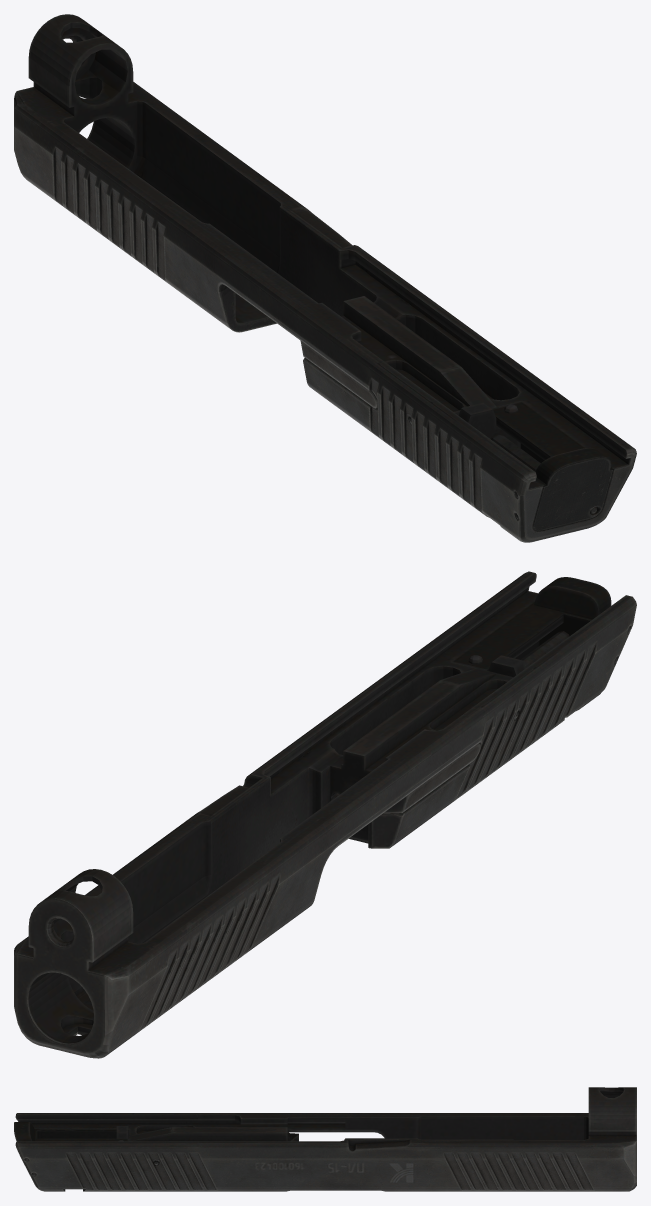
The picture shows the model from 3 angles, top to bottom: view 1: azimuth 30°, elevation 25°; view 2: azimuth 150°, elevation 25°; view 3: azimuth 270°, elevation 25°; orthographic projection. The views are drawn at different scales.
Parts seen in each view (by area): view 1: TW_60228924961b8d75ee233c32_PZ_Import; view 2: TW_60228924961b8d75ee233c32_PZ_Import; view 3: TW_60228924961b8d75ee233c32_PZ_Import.
Part boxes in pixels (left/top/right/bottom): TW_60228924961b8d75ee233c32_PZ_Import: left=14, top=14, right=636, bottom=542; TW_60228924961b8d75ee233c32_PZ_Import: left=14, top=571, right=636, bottom=1058; TW_60228924961b8d75ee233c32_PZ_Import: left=14, top=1087, right=636, bottom=1191.
Size of the model in its own units: 0.0148 by 0.1171 by 0.0193.
1 material, 1 textured.
